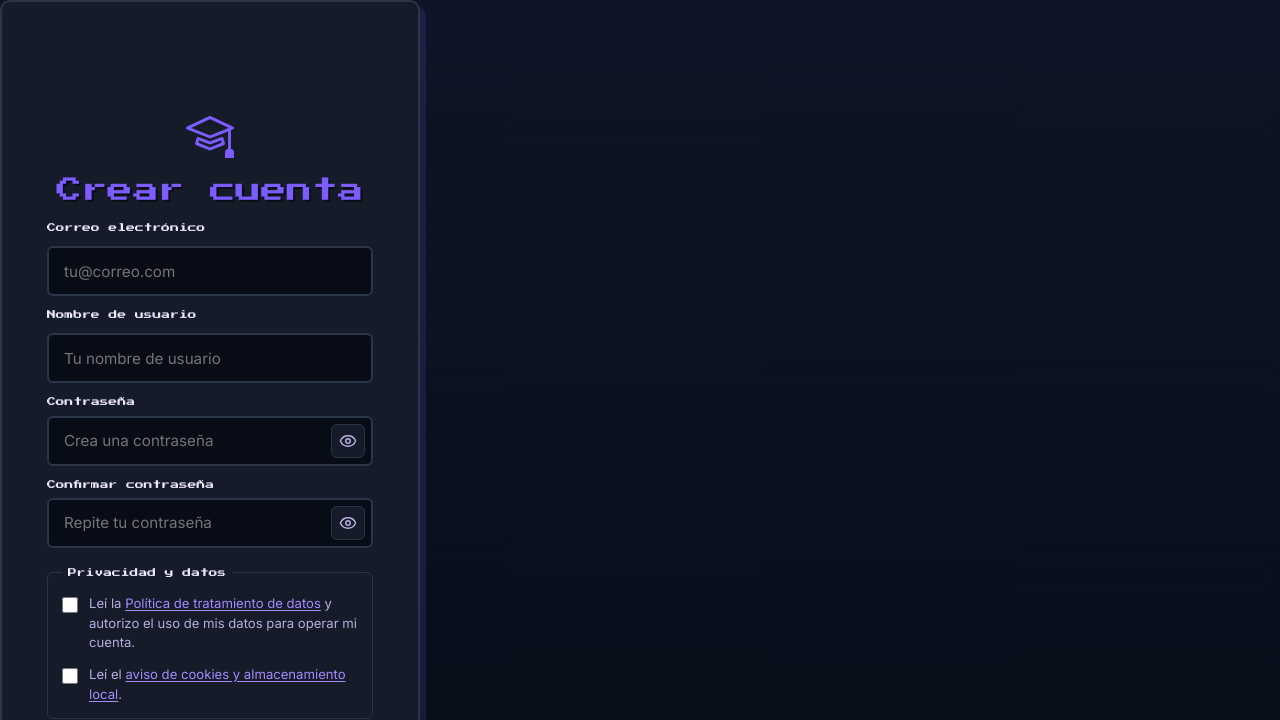
CP-2 - Registro de usuario › muestra un error cuando el correo ya está registrado
This screenshot has width=1280, height=720.
Type "usuario@existente.com" into the field labelled "Correo electrónico" at (210, 271), box [47, 246, 373, 296]
Type "Usuario Existente" into the field labelled "Nombre de usuario" at (210, 358), box [47, 333, 373, 383]
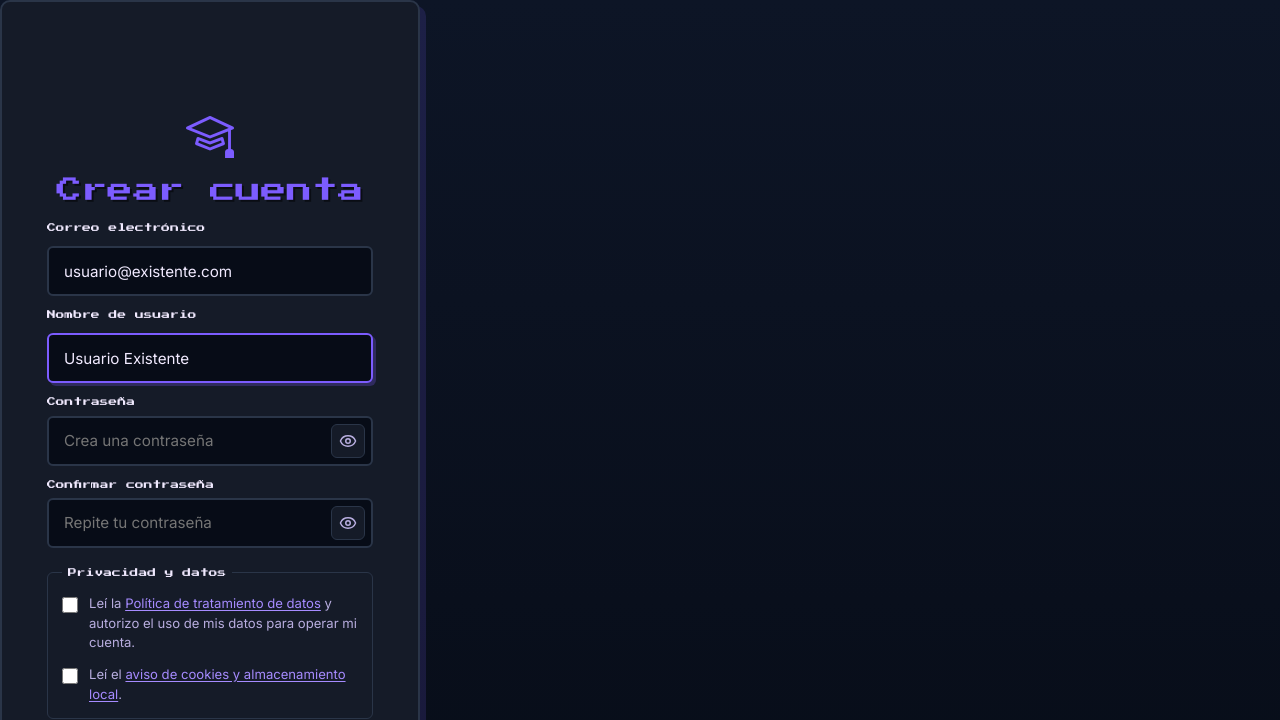
Type "Prueba123" into the password field labelled "Contraseña" at (210, 441), box [47, 416, 373, 466]
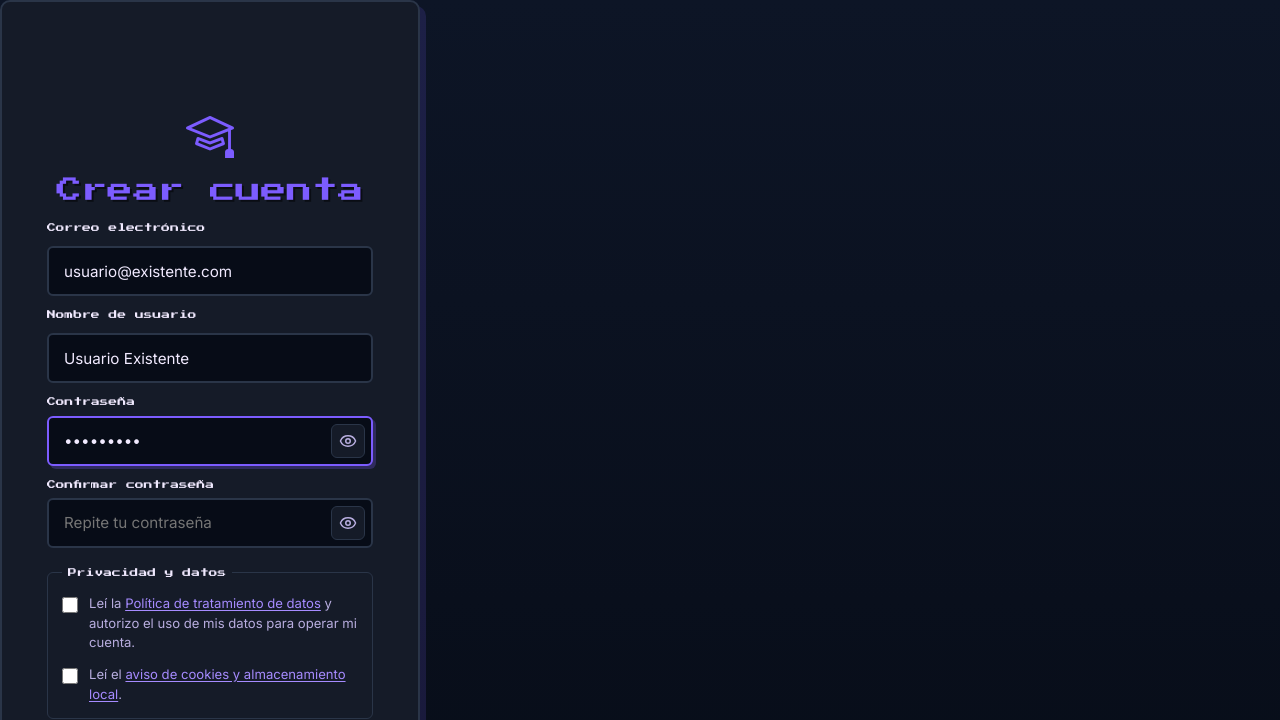
Type "Prueba123" into the password field labelled "Confirmar contraseña" at (210, 523), box [47, 498, 373, 548]
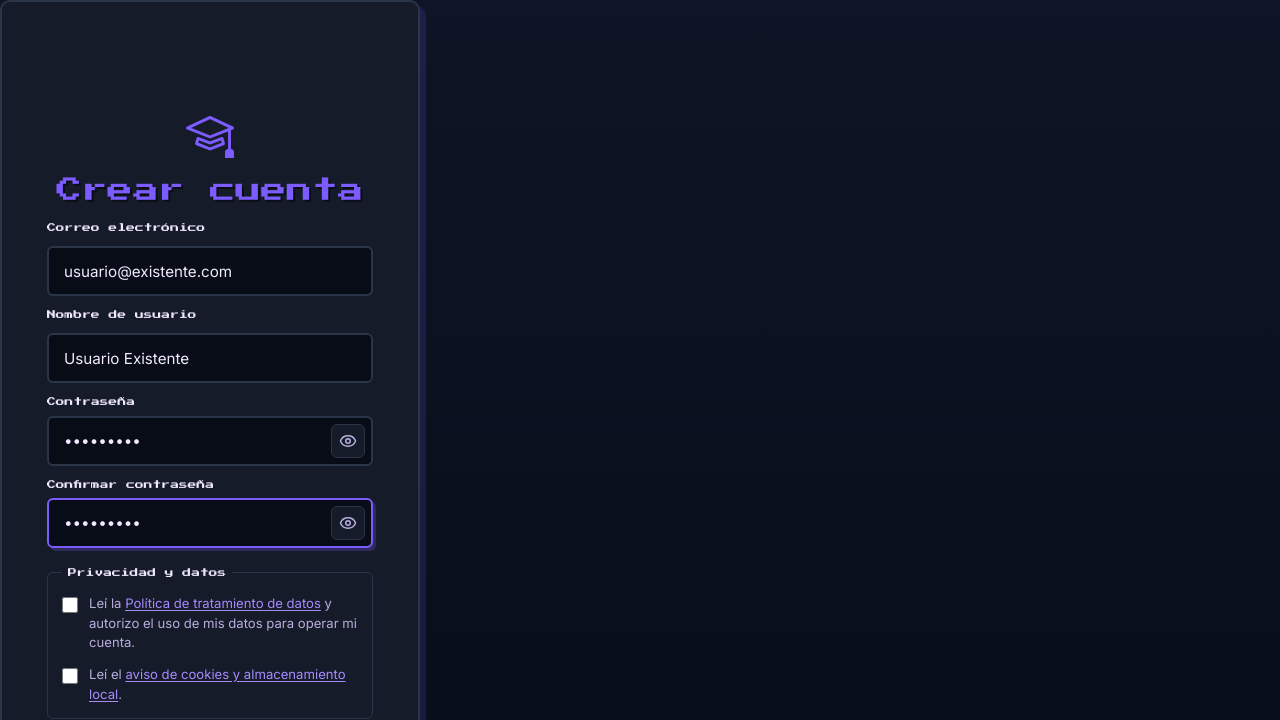
Click the checkbox labelled "Política de tratamiento de datos" at (70, 605), box [62, 597, 78, 613]
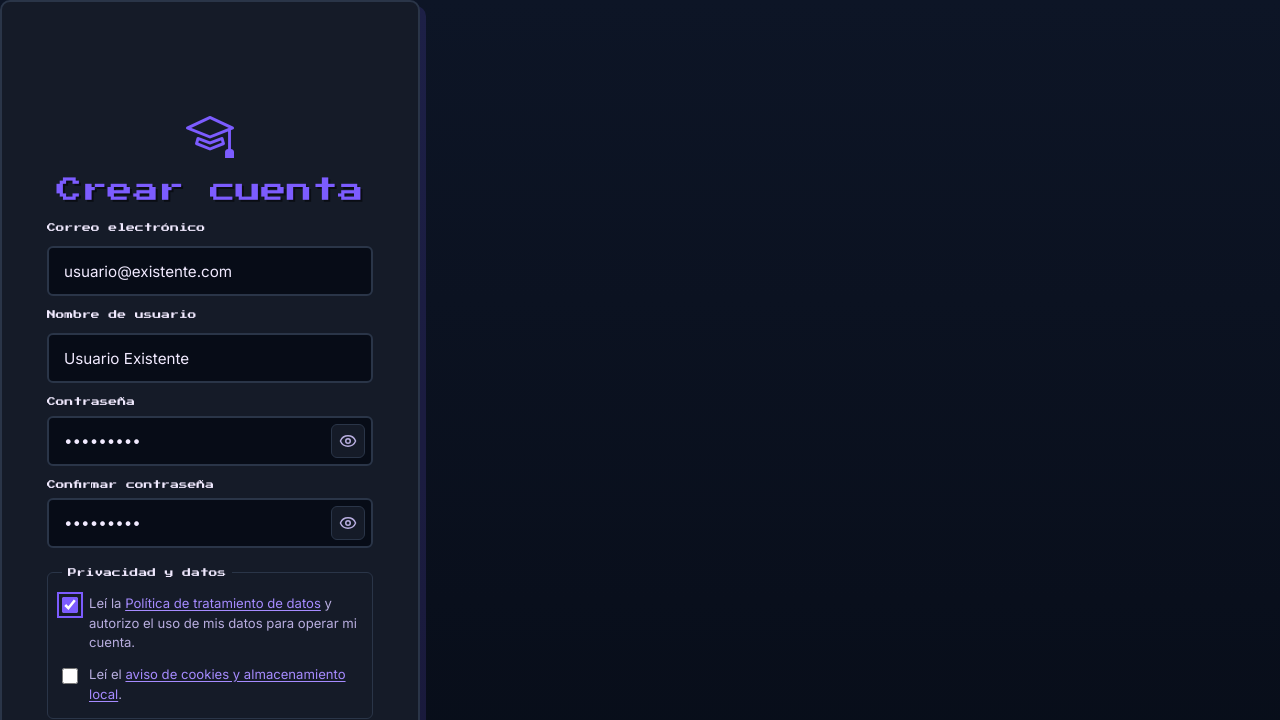
Click the checkbox labelled "Leí el aviso de cookies y almacenamiento local ." at (70, 676), box [62, 668, 78, 684]
(page scrolled)
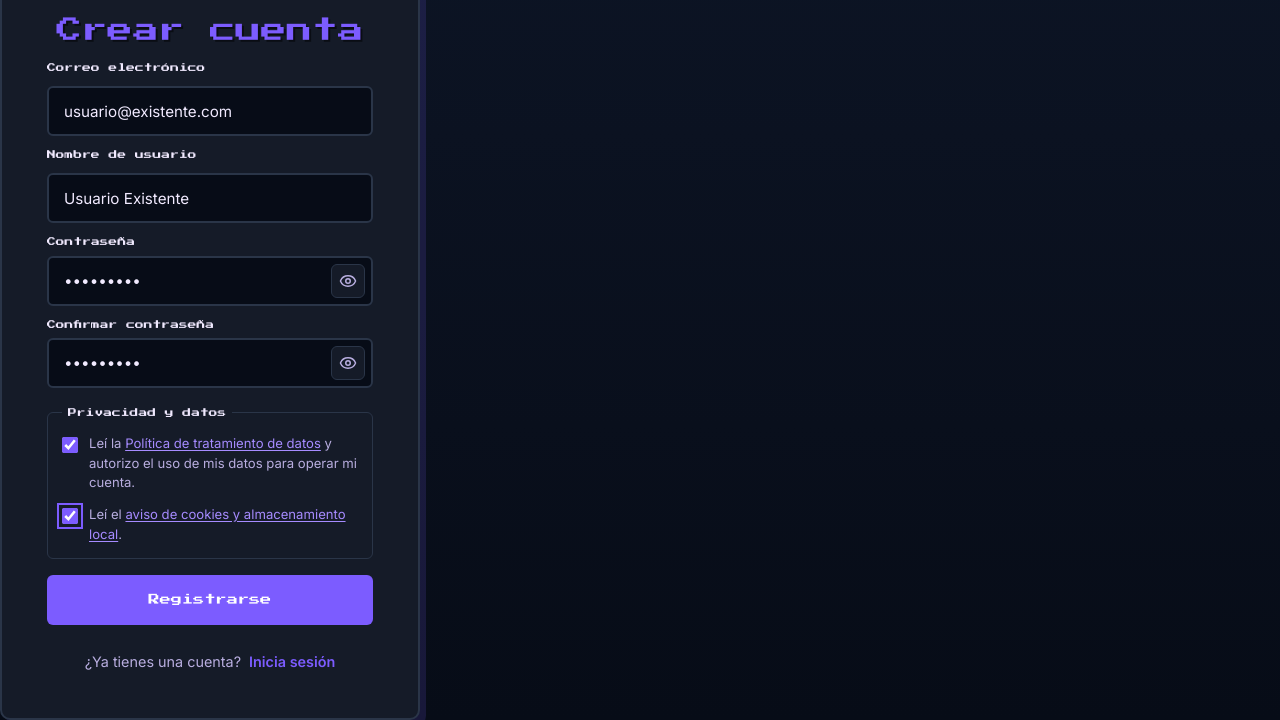
Click the button "Registrarse" at (210, 600), box [47, 575, 373, 625]
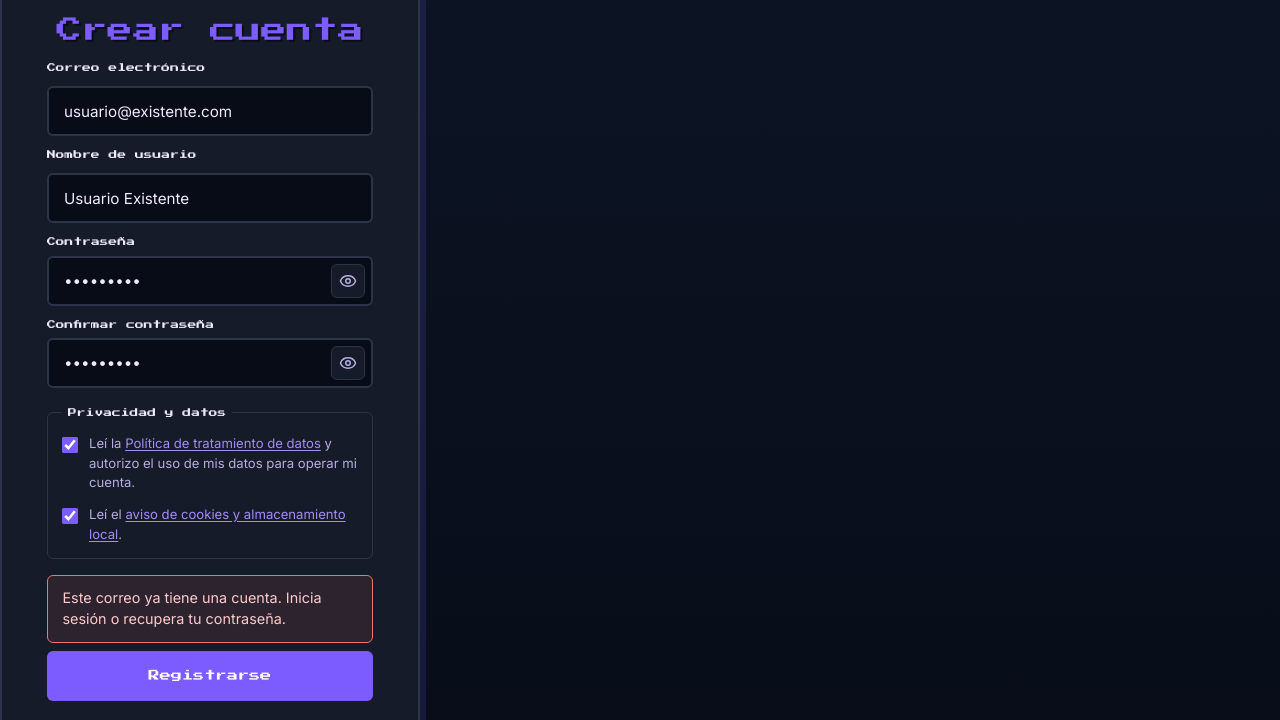
Expected: the message reads "Este correo ya tiene una cuenta. Inicia sesión o recupera tu contraseña.", [62, 589, 322, 627]
